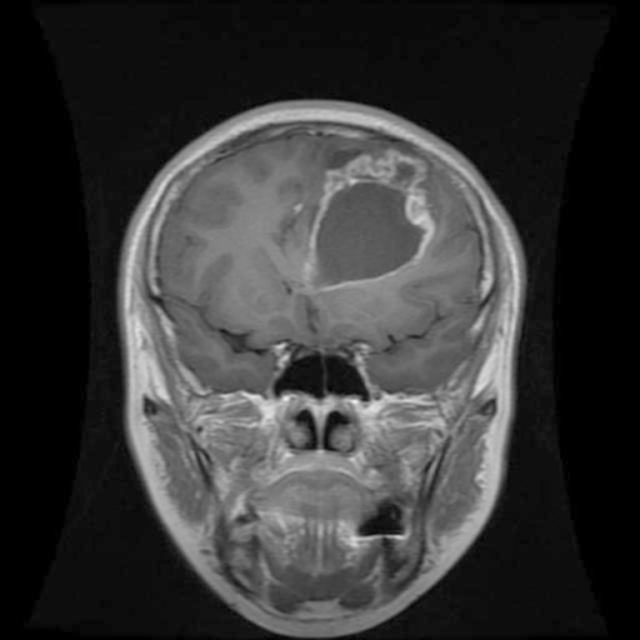pituitary tumor: (306, 162, 434, 282)
